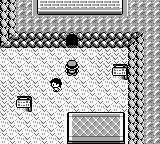leer: (16, 97, 32, 111), (113, 65, 128, 79)
main: (65, 61, 79, 75)
no-caminable: (0, 0, 159, 143), (68, 112, 124, 143), (38, 0, 123, 14)
npc: (50, 78, 62, 92)
puerta: (66, 34, 78, 47)
